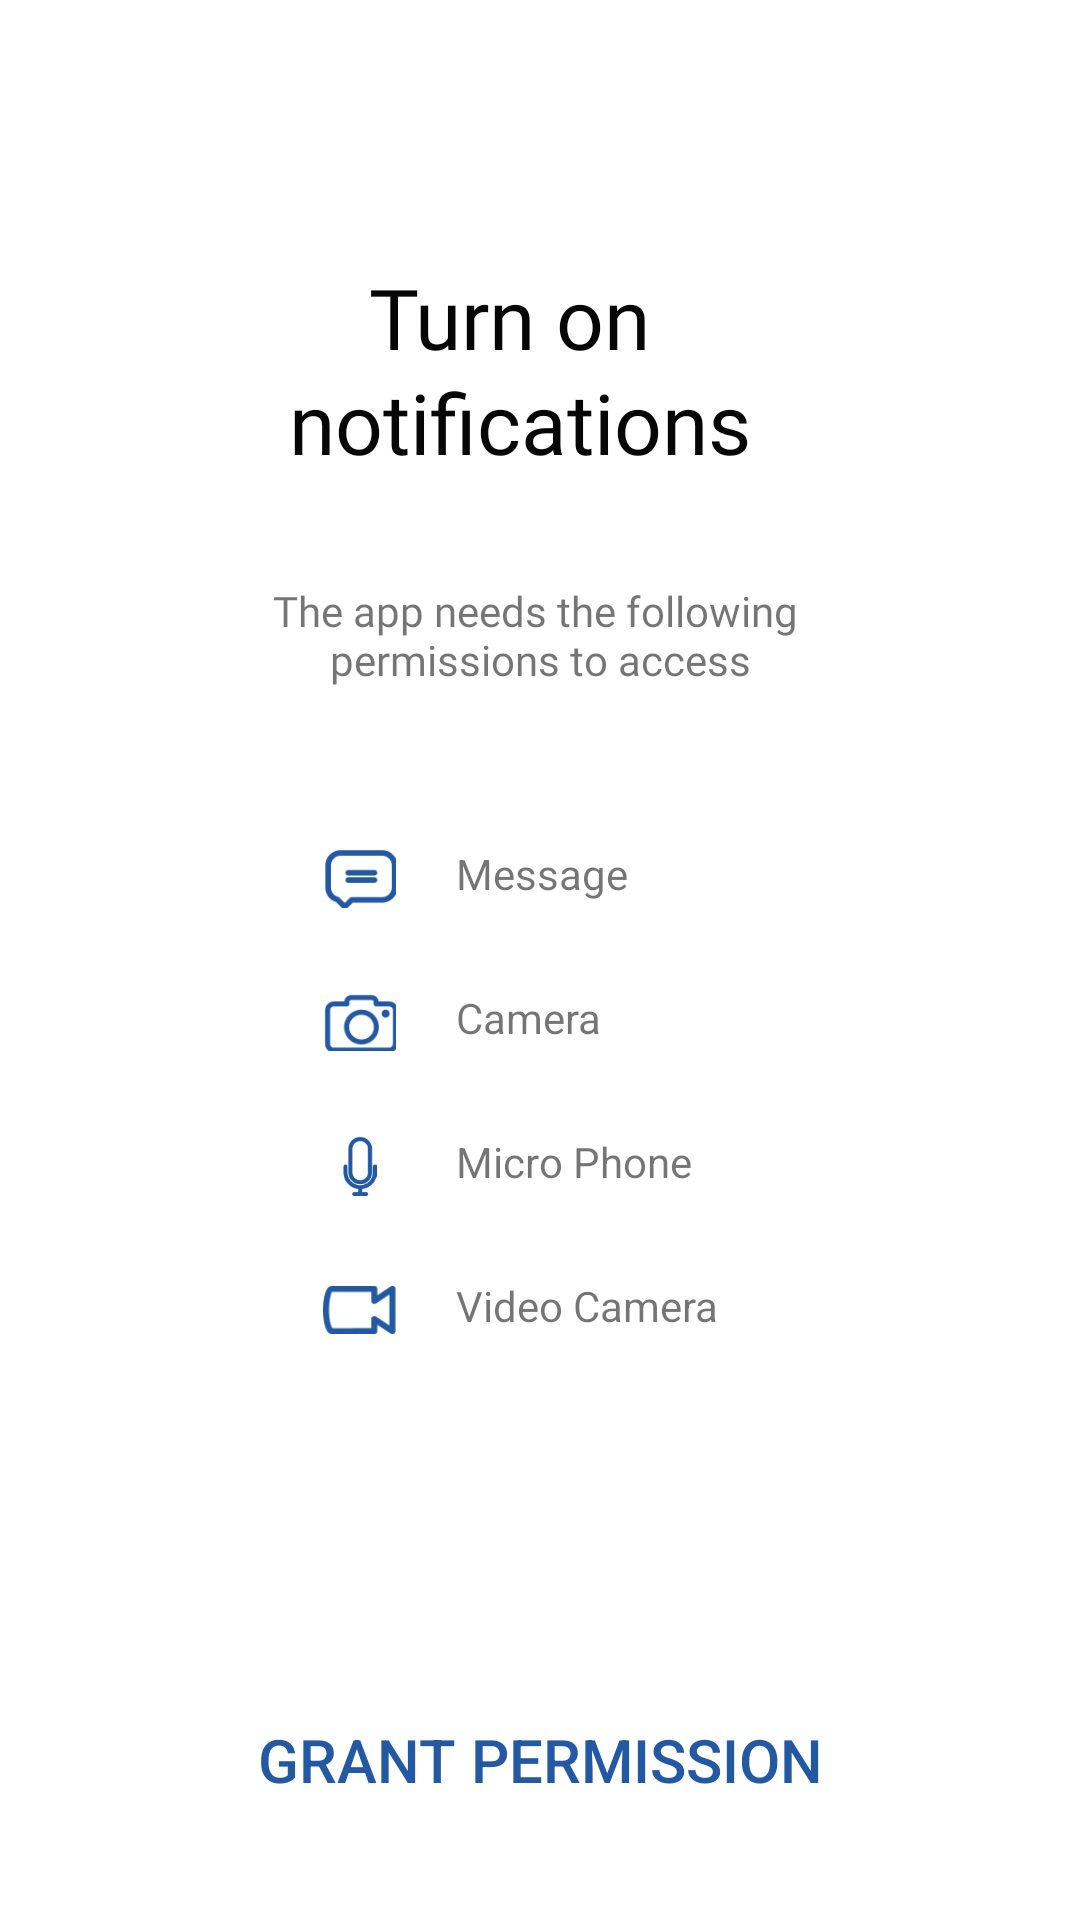

Where to tap for icons on this 1080x1920 app screen, as (x=x, y=y):
mic: (x=360, y=1166)
